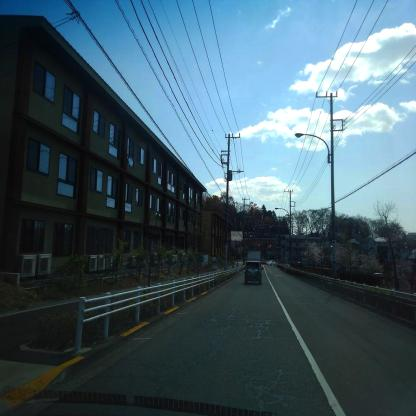Someiyoshino: (302, 239, 387, 278), (388, 254, 416, 297)
